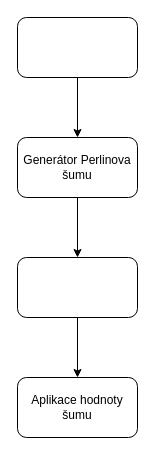
Some shapes in this 155 by 455 pixel diagram are drawn without their labels. Each missing label, with the centre of its shape:
"Procházení Tilemapy" goes at point (77, 287).
"Vstupní hodnoty" goes at point (77, 47).
